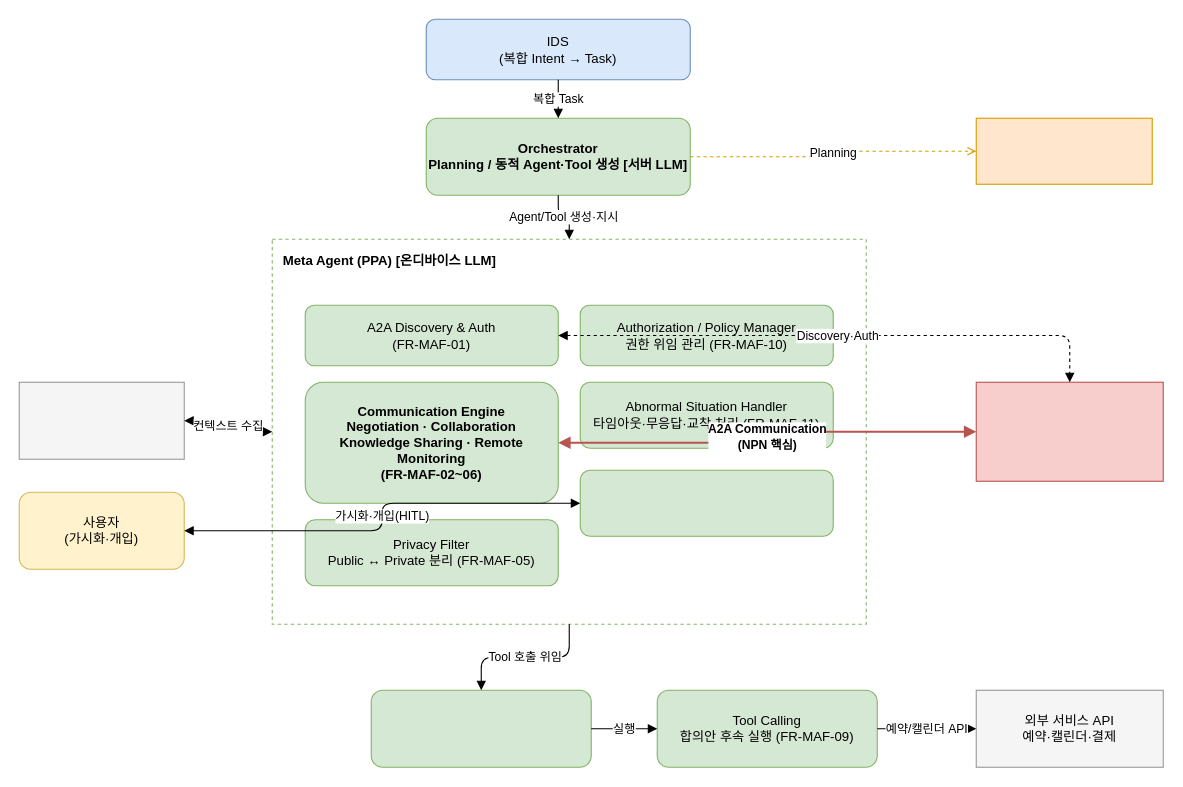
Some shapes in this 1183 by 787 pixel diagram are drawn without their labels. The box of each missing label's shape, as (x1, y1, x2, y2) in pixels:
DPA (내 가전): (18, 381, 184, 459)
Sub-Agent(들) 동적 생성: (370, 689, 591, 767)
UI Visibility & Human-in-the-Loop 진행 가시화·실시간 개입 (FR-MAF-07·08): (579, 469, 833, 536)
상대방 PPA (A2A 카운터파트): (975, 381, 1163, 481)
서버 LLM: (975, 117, 1152, 184)
